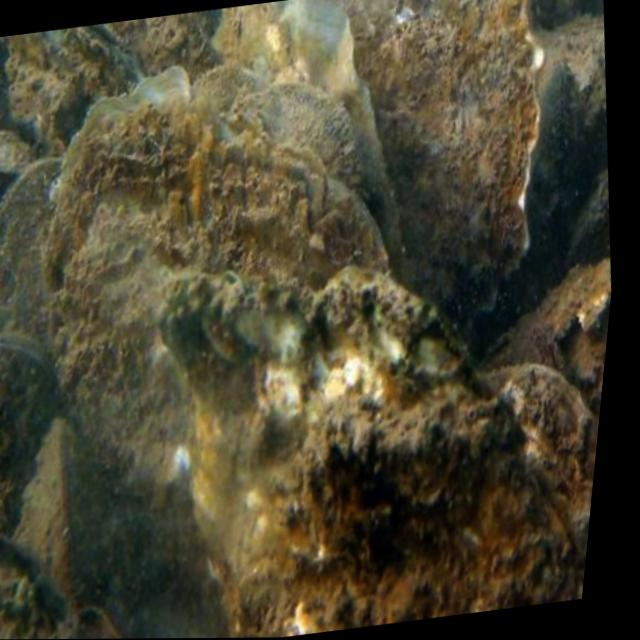Oyster-Closed: (0, 334, 58, 531)
Oyster-Indeterminate: (39, 64, 391, 639), (159, 278, 584, 638), (339, 0, 542, 345), (214, 0, 388, 228), (9, 420, 113, 617), (480, 360, 598, 531), (236, 82, 360, 190), (0, 157, 62, 366), (0, 540, 113, 640), (534, 61, 584, 246), (136, 11, 223, 84), (190, 67, 263, 109), (0, 125, 33, 191), (562, 515, 590, 573)
